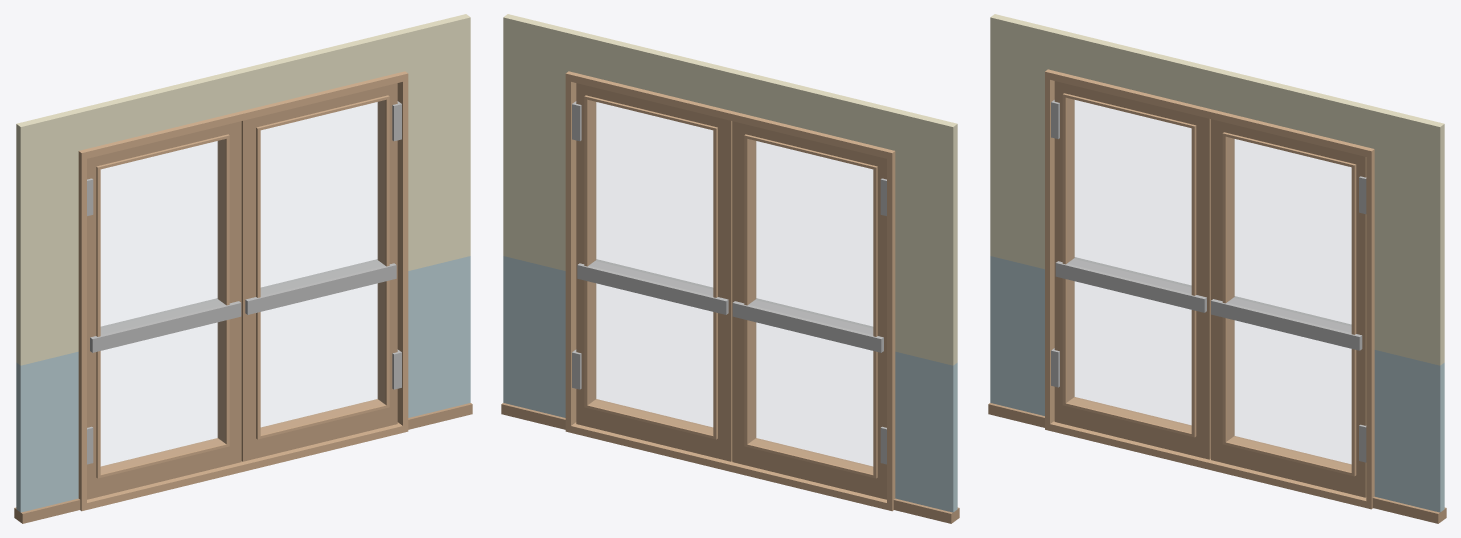
File: Door UV.fbx
3 views of the same model, side by side, from view 1: azimuth 30°, elevation 25°; view 2: azimuth 150°, elevation 25°; view 3: azimuth 330°, elevation 25° (orthographic).
Parts seen in each view (by area): view 1: Boole, Cube_7, Cube_12; view 2: Boole, Cube_7, Cube_12; view 3: Boole, Cube_12, Cube_7.
Boxes of the visible parts, box(x1,y1,x2,y2) form: Boole: box(14, 14, 472, 523); Cube_7: box(241, 83, 401, 461); Cube_12: box(87, 121, 241, 499); Boole: box(501, 14, 959, 523); Cube_7: box(572, 83, 732, 461); Cube_12: box(732, 121, 886, 499); Boole: box(988, 14, 1446, 523); Cube_12: box(1051, 81, 1210, 459); Cube_7: box(1211, 119, 1366, 497).
Bounding box in the file's own units: 106 × 89.41 × 4.45.
